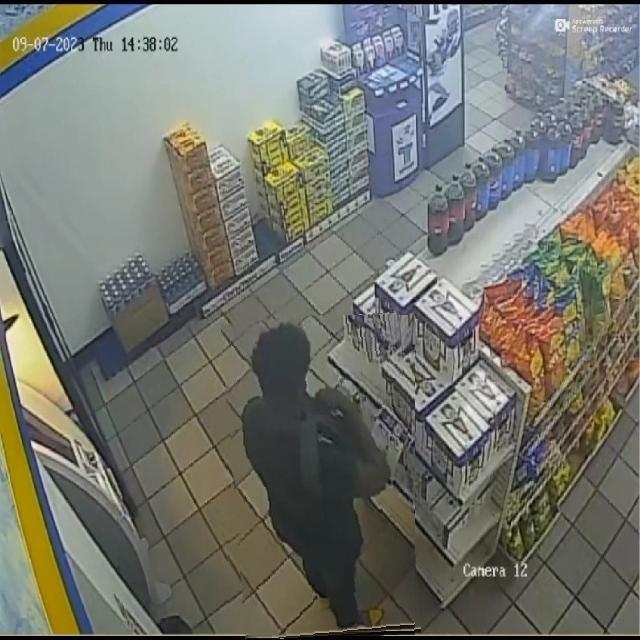normal: (226, 315, 415, 640)
